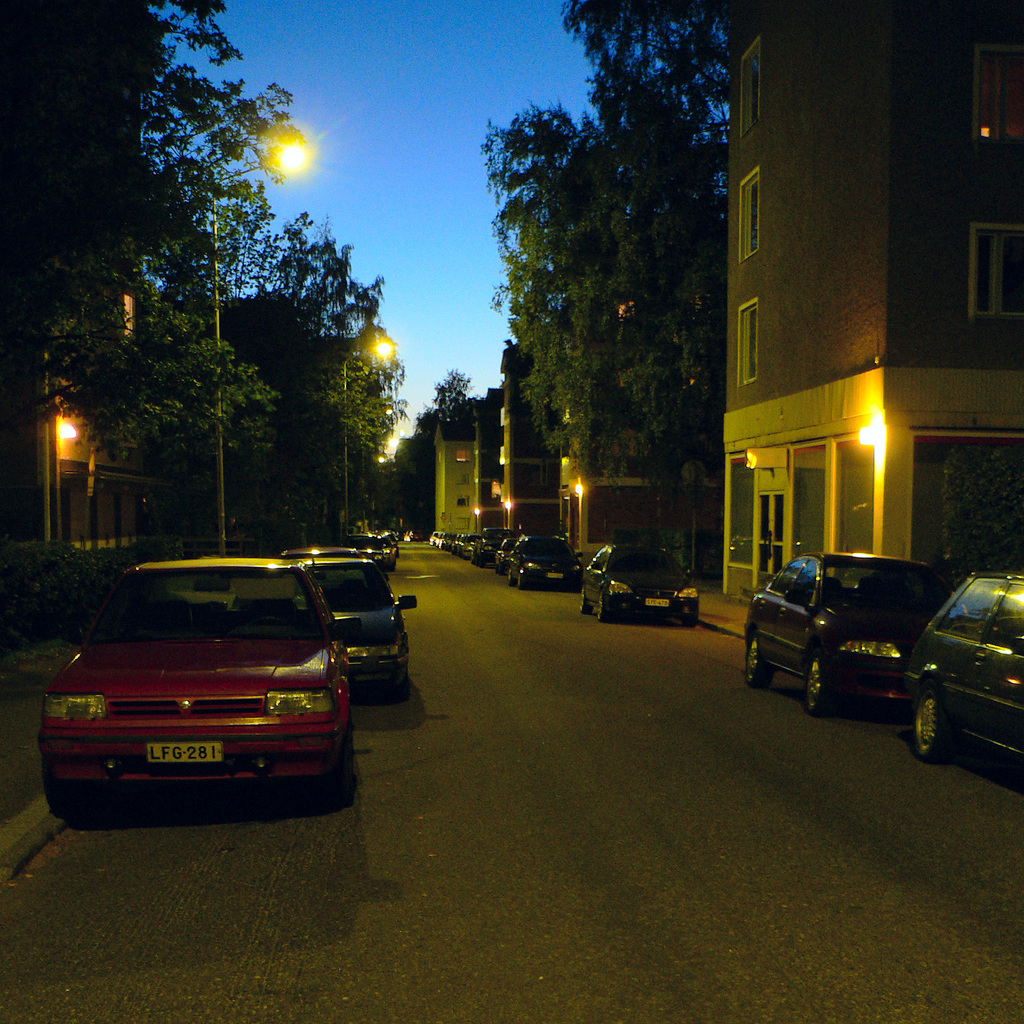mobil: (29, 521, 366, 845), (752, 536, 952, 725)
